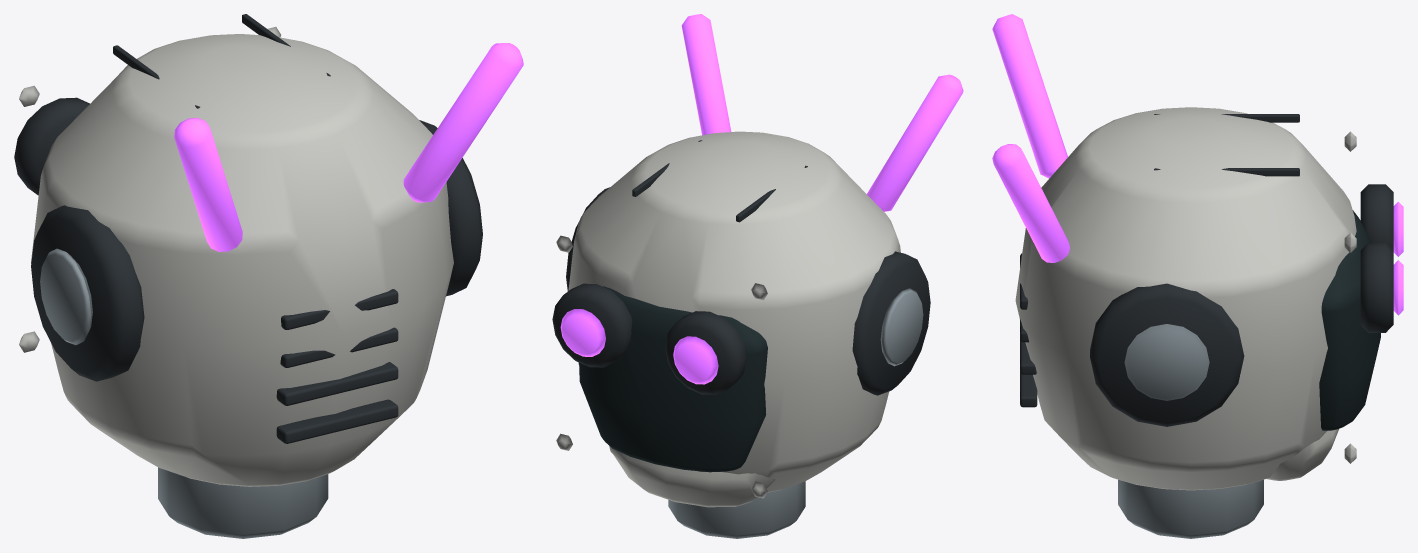
Rendered from heads_06.glb.
3 renders of one model, left to right at view 1: azimuth 30°, elevation 25°; view 2: azimuth 150°, elevation 25°; view 3: azimuth 270°, elevation 25°, orthographic. The views are drawn at different scales.
Visible parts, largest first — view 1: heads_06_Geometry; view 2: heads_06_Geometry; view 3: heads_06_Geometry.
Part boxes in pixels (box(x1,y1,x2,y2)): heads_06_Geometry: box(14, 14, 523, 538); heads_06_Geometry: box(552, 14, 963, 538); heads_06_Geometry: box(992, 14, 1403, 538).
Bounding box in the file's own units: 0.29 × 0.3579 × 0.3095.
